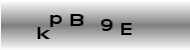9: (99, 18, 114, 32)
B: (69, 13, 85, 27)
E: (120, 21, 134, 36)
k: (36, 26, 51, 40)
p: (48, 13, 62, 28)
